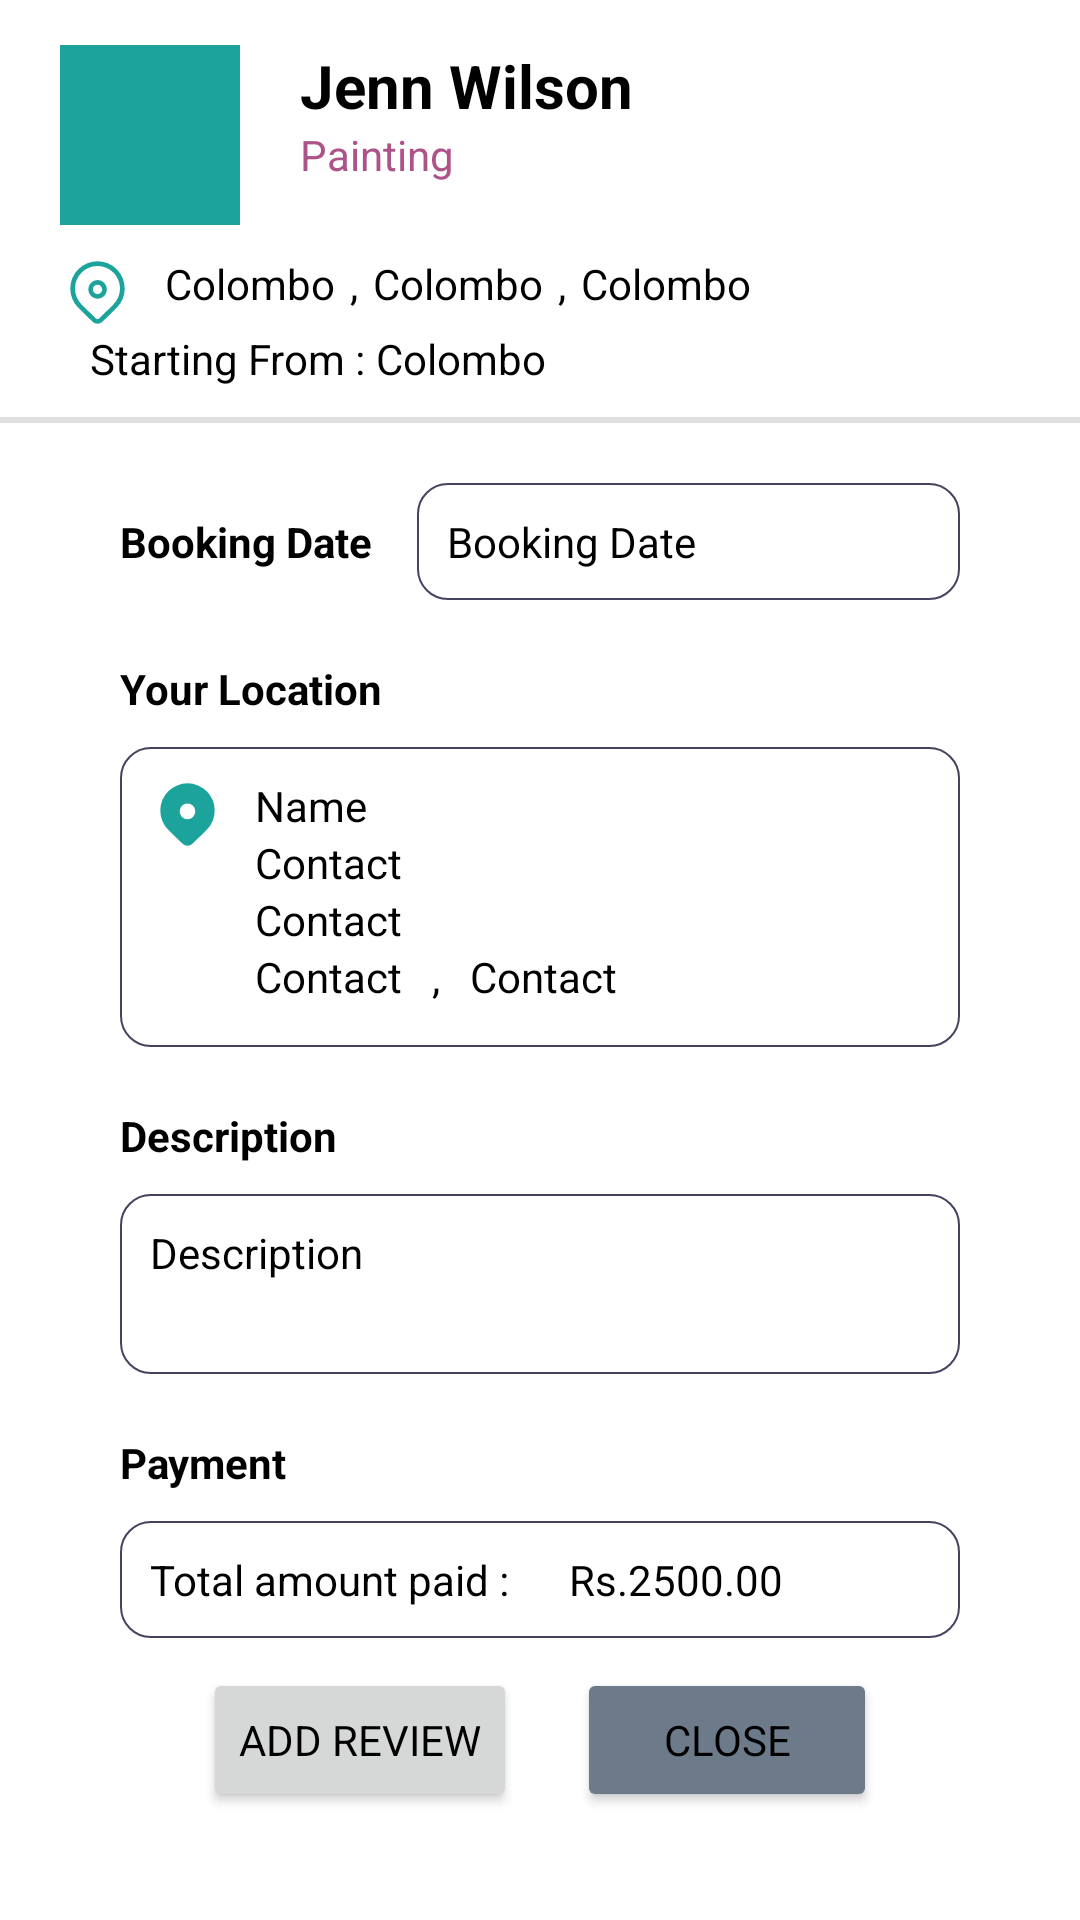

Where icons sit on this 1080 x 1920 app screen, as (x1, y1, x2, y2):
fluent location: (70, 261, 125, 324), (160, 783, 215, 846)
